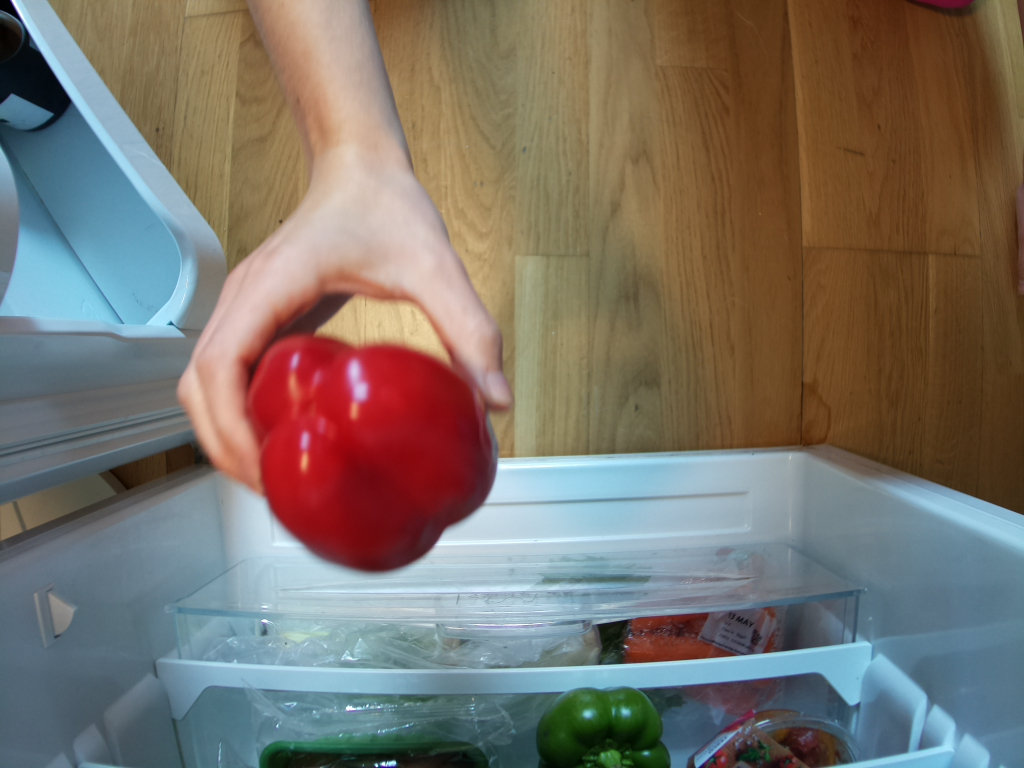pepper: (247, 333, 501, 575), (538, 690, 673, 768)
